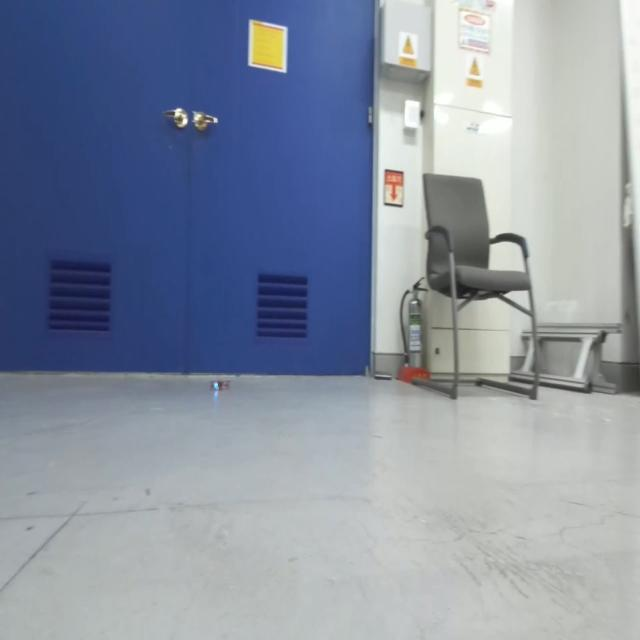crazyflie: (205, 373, 232, 398)
